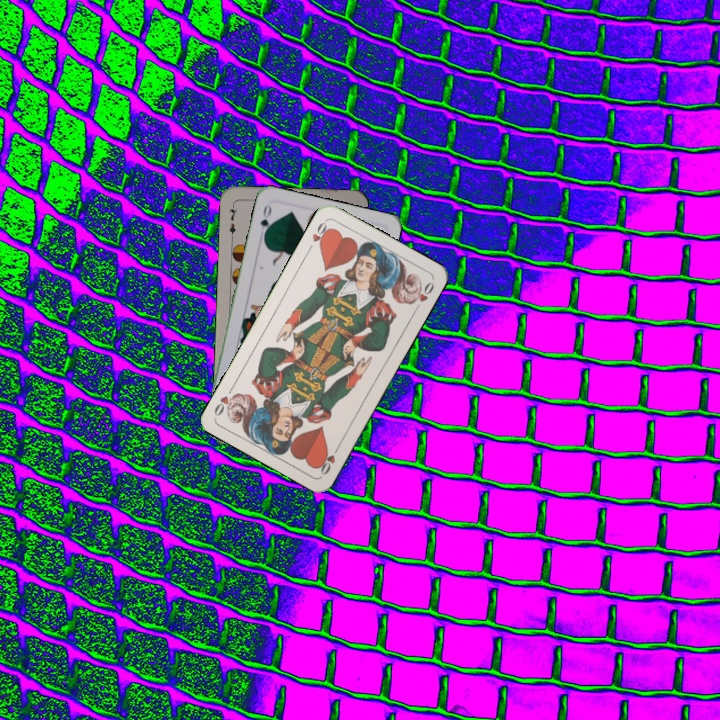E7: (225, 200, 240, 241)
GO: (256, 201, 274, 241)
HO: (304, 217, 333, 254), (314, 441, 343, 477)
